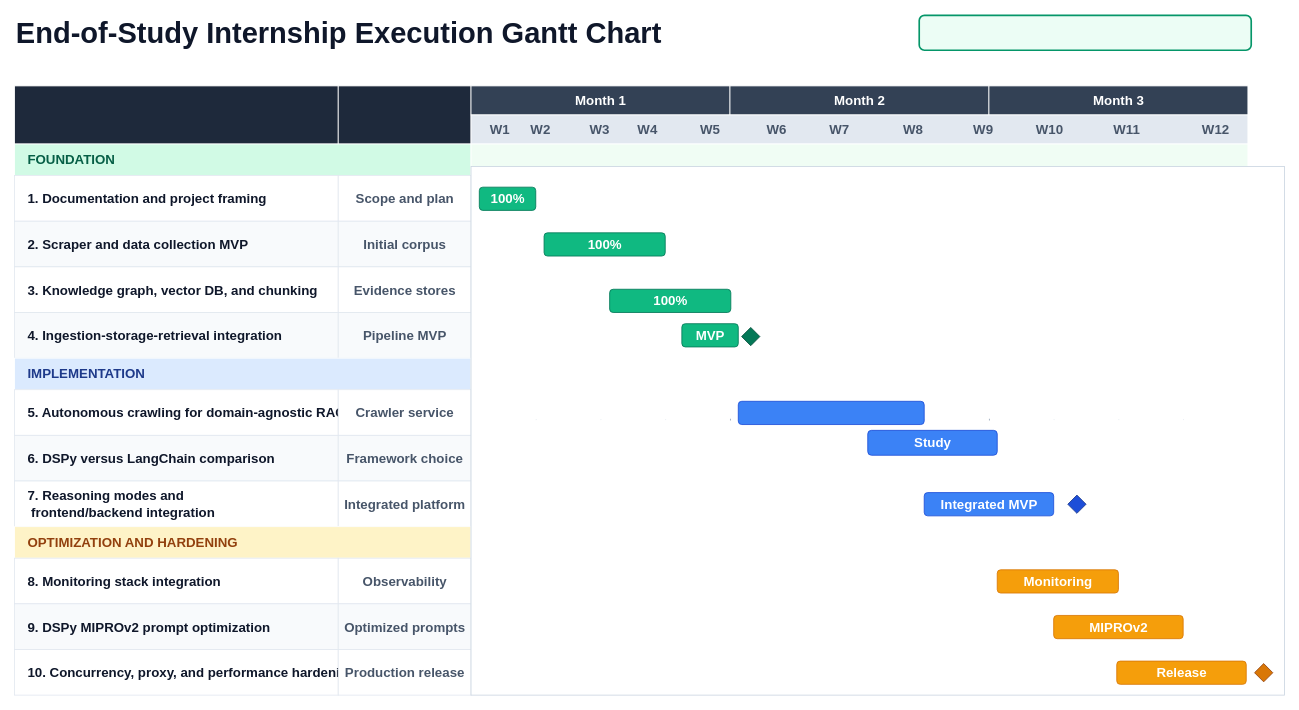
The diagram is 1299 pixels wide and 710 high, and some of its shapes have lost their labels. The shapes that lost their labels are listed below. From the top down, each one's centre as x and y in pixels, then its label:
At point 1085,32: "Effective execution: 3 months".
At point 176,114: "Phase / Task".
At point 404,114: "Deliverable".
At point 830,412: "Crawler".
